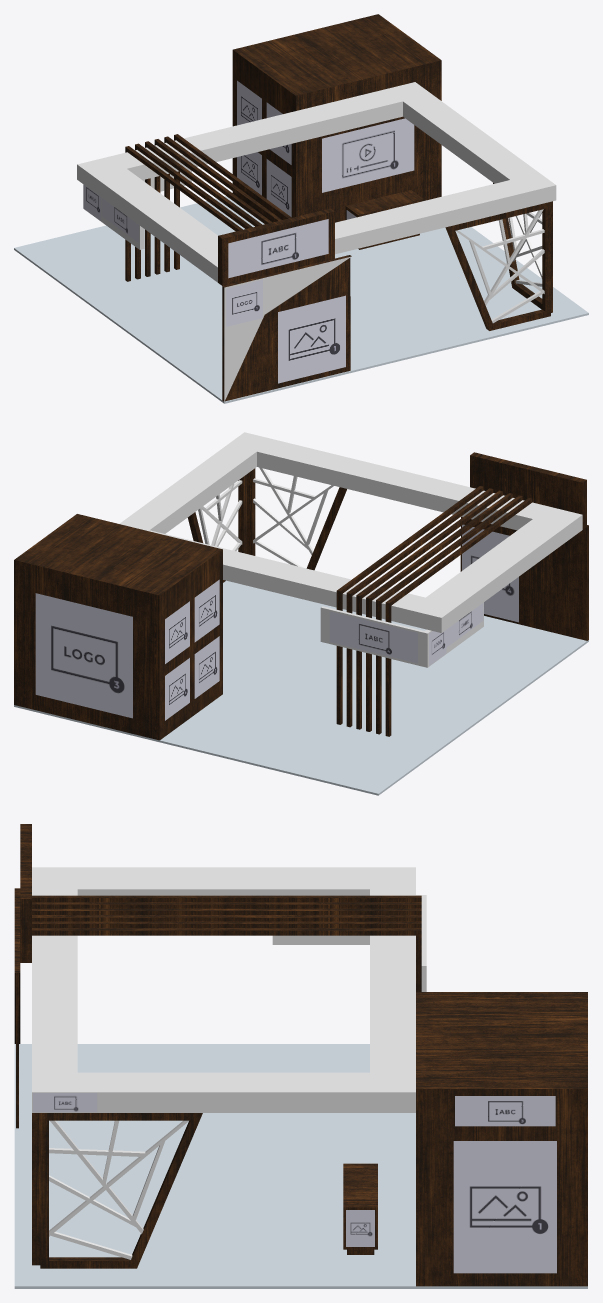
The model's file is stant58.gltf.
3 views of the same model, one above another, from view 1: azimuth 30°, elevation 25°; view 2: azimuth 150°, elevation 25°; view 3: azimuth 270°, elevation 25° (orthographic). The views are drawn at different scales.
Visible parts, largest first — view 1: modahsap2, modzemin, modrenk1, modvideo1, modgorsel1, modyazi1, modlogo1, modgorsel5, modgorsel2, modgorsel4, modyazi5; view 2: modahsap2, modzemin, modrenk1, modlogo3, modyazi4, moddikgorsel4, modgorsel3, modgorsel5, modgorsel4, modgorsel2, modyazi5, modlogo4; view 3: modzemin, modahsap2, modrenk1, moddikgorsel1, modyazi3, modyazi2, moddikgorsel2.
Part boxes in pixels (x1=…): modahsap2: x1=125, y1=14, x2=552, y2=401; modzemin: x1=14, y1=196, x2=588, y2=403; modrenk1: x1=77, y1=82, x2=556, y2=401; modvideo1: x1=322, y1=118, x2=414, y2=192; modgorsel1: x1=278, y1=295, x2=345, y2=383; modyazi1: x1=228, y1=219, x2=328, y2=278; modlogo1: x1=226, y1=280, x2=262, y2=326; modgorsel5: x1=266, y1=159, x2=291, y2=216; modgorsel2: x1=237, y1=80, x2=261, y2=125; modgorsel4: x1=237, y1=152, x2=261, y2=195; modyazi5: x1=102, y1=198, x2=138, y2=242; modahsap2: x1=14, y1=452, x2=588, y2=740; modzemin: x1=14, y1=580, x2=588, y2=795; modrenk1: x1=119, y1=432, x2=582, y2=667; modlogo3: x1=35, y1=593, x2=132, y2=718; modyazi4: x1=329, y1=611, x2=417, y2=663; moddikgorsel4: x1=462, y1=524, x2=518, y2=622; modgorsel3: x1=194, y1=579, x2=219, y2=642; modgorsel5: x1=194, y1=636, x2=219, y2=698; modgorsel4: x1=165, y1=658, x2=189, y2=720; modgorsel2: x1=165, y1=601, x2=189, y2=663; modyazi5: x1=446, y1=603, x2=483, y2=647; modlogo4: x1=429, y1=630, x2=446, y2=665; modzemin: x1=14, y1=1044, x2=587, y2=1288; modahsap2: x1=14, y1=824, x2=587, y2=1286; modrenk1: x1=32, y1=867, x2=426, y2=1259; moddikgorsel1: x1=453, y1=1141, x2=556, y2=1273; modyazi3: x1=455, y1=1096, x2=555, y2=1126; modyazi2: x1=33, y1=1093, x2=97, y2=1112; moddikgorsel2: x1=346, y1=1210, x2=374, y2=1246.
Size of the model in its own units: 1 by 0.4286 by 1.
22 materials, 20 textured.
